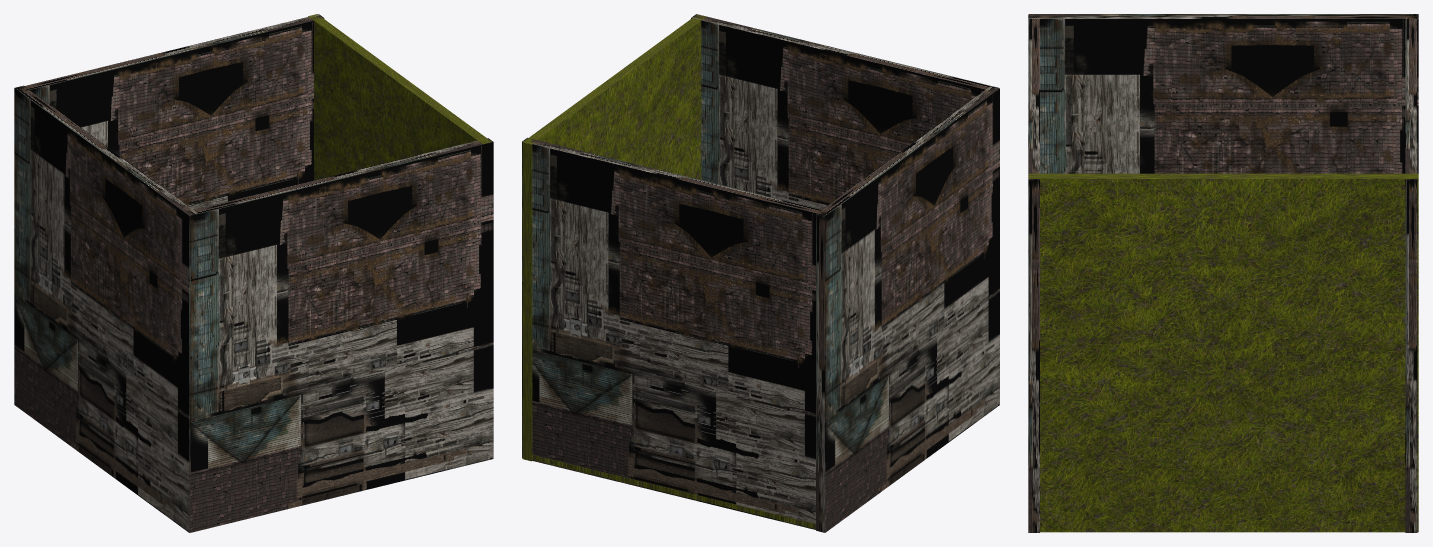
Rendered from Physics.obj.
3 renders of one model, left to right at view 1: azimuth 30°, elevation 25°; view 2: azimuth 150°, elevation 25°; view 3: azimuth 270°, elevation 25°, orthographic. The views are drawn at different scales.
Visible parts, largest first — view 1: Duplicate02, Duplicate00, Duplicate01, Box01; view 2: Duplicate01, Duplicate00, Duplicate02, Box01; view 3: Box01, Duplicate00, Duplicate01, Duplicate02.
Boxes of the visible parts, x1,y1,x2,y2 form: Duplicate02: [188, 138, 493, 532]; Duplicate00: [14, 85, 197, 532]; Duplicate01: [23, 14, 324, 209]; Box01: [308, 14, 491, 180]; Duplicate01: [522, 137, 824, 529]; Duplicate00: [816, 86, 999, 532]; Duplicate02: [691, 14, 998, 209]; Box01: [522, 14, 815, 528]; Box01: [1028, 173, 1418, 532]; Duplicate00: [1028, 14, 1418, 173]; Duplicate01: [1405, 15, 1417, 532]; Duplicate02: [1028, 14, 1039, 532].
Bounding box in the file's own units: 78.9 × 78.6 × 78.7.
Materials: 22 (22 with a texture image).
